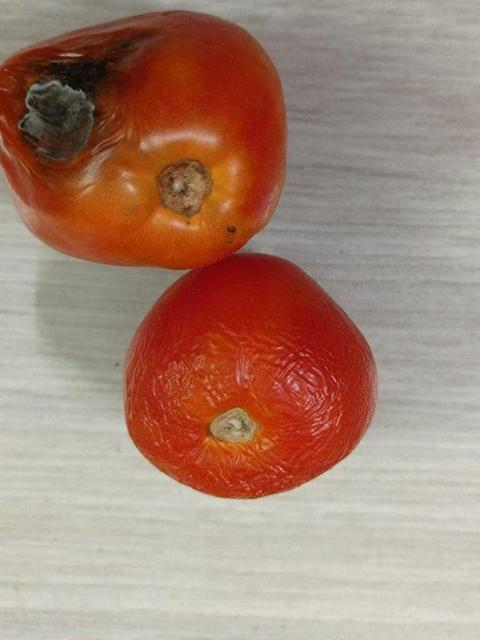defect: (0, 5, 305, 266)
